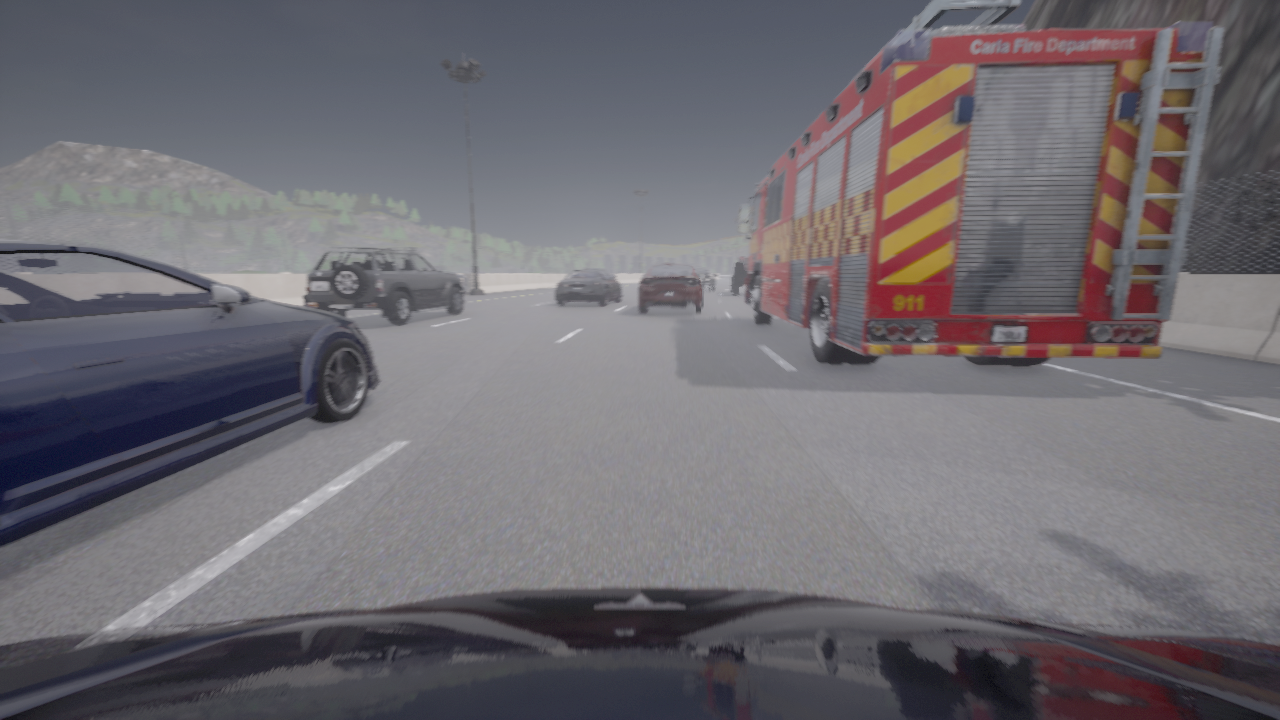cyclist: (738, 0, 1224, 366), (0, 588, 1279, 719), (302, 246, 467, 324), (639, 262, 704, 313), (554, 269, 621, 305), (732, 258, 747, 295), (695, 268, 716, 291), (602, 269, 615, 280)
